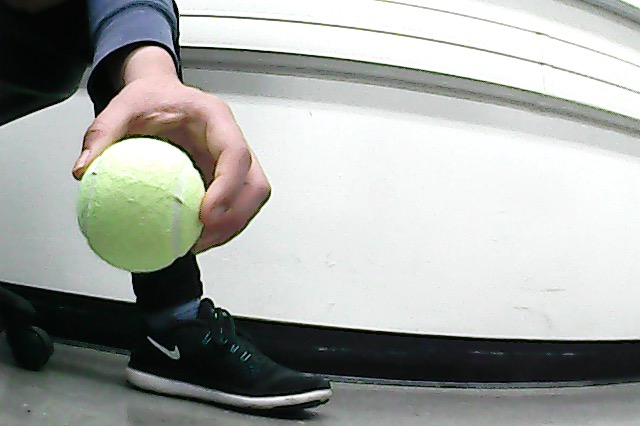ball: (77, 138, 206, 273)
